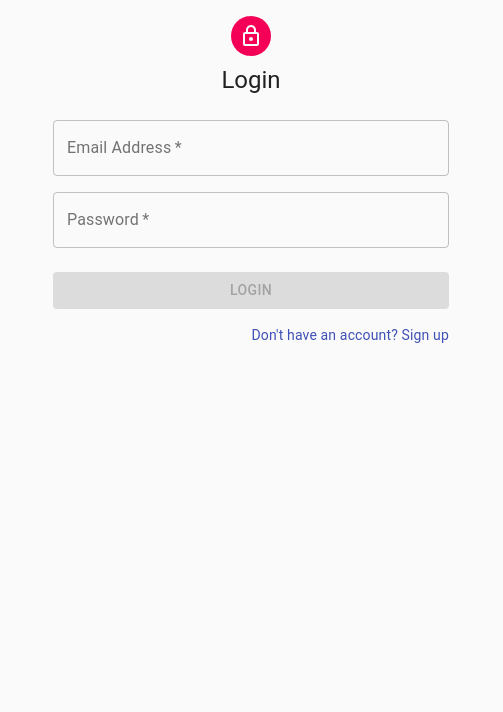
Test: Login page shows error after server error
Type "1" into the field with id "email" at (251, 148), box x1=53 y1=120 x2=449 y2=176
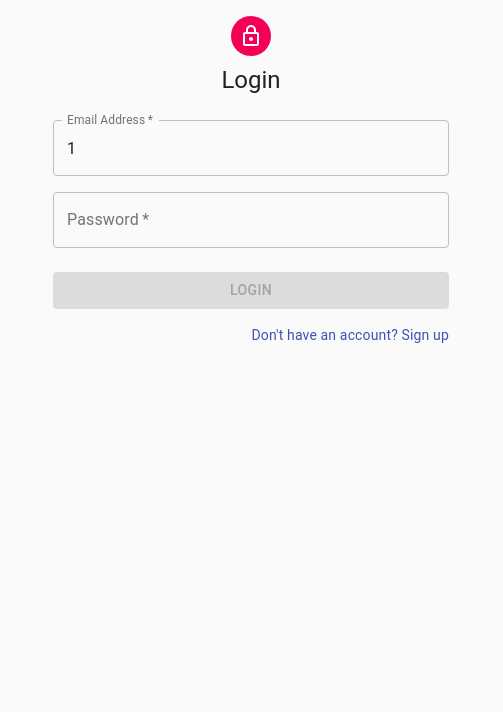
Type "1" into the password field labelled "Password *" at (251, 220), box x1=53 y1=192 x2=449 y2=248
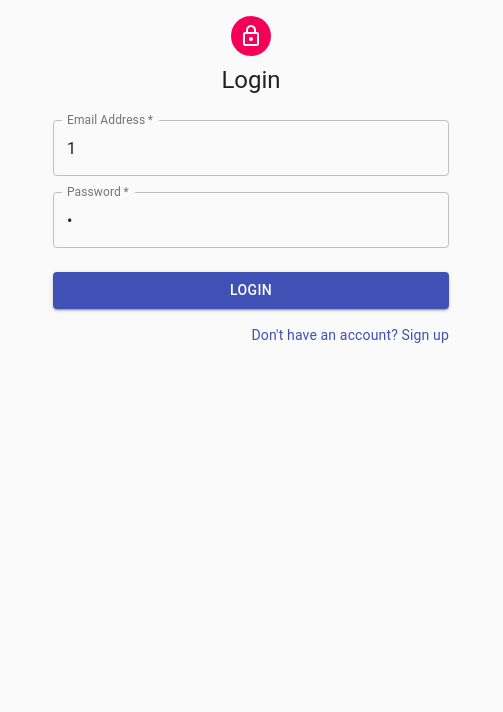
Click the button "Login" at (251, 290), box x1=53 y1=272 x2=449 y2=308
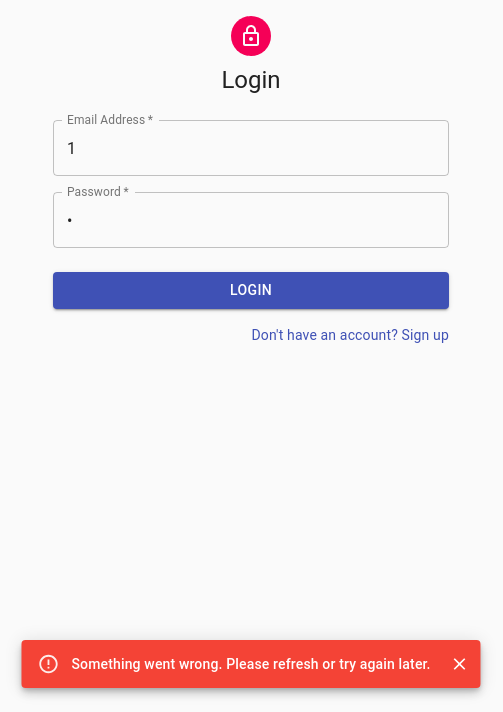
Now the text "Something went wrong. Please refresh or try again later." is shown, box x1=72 y1=656 x2=430 y2=672
